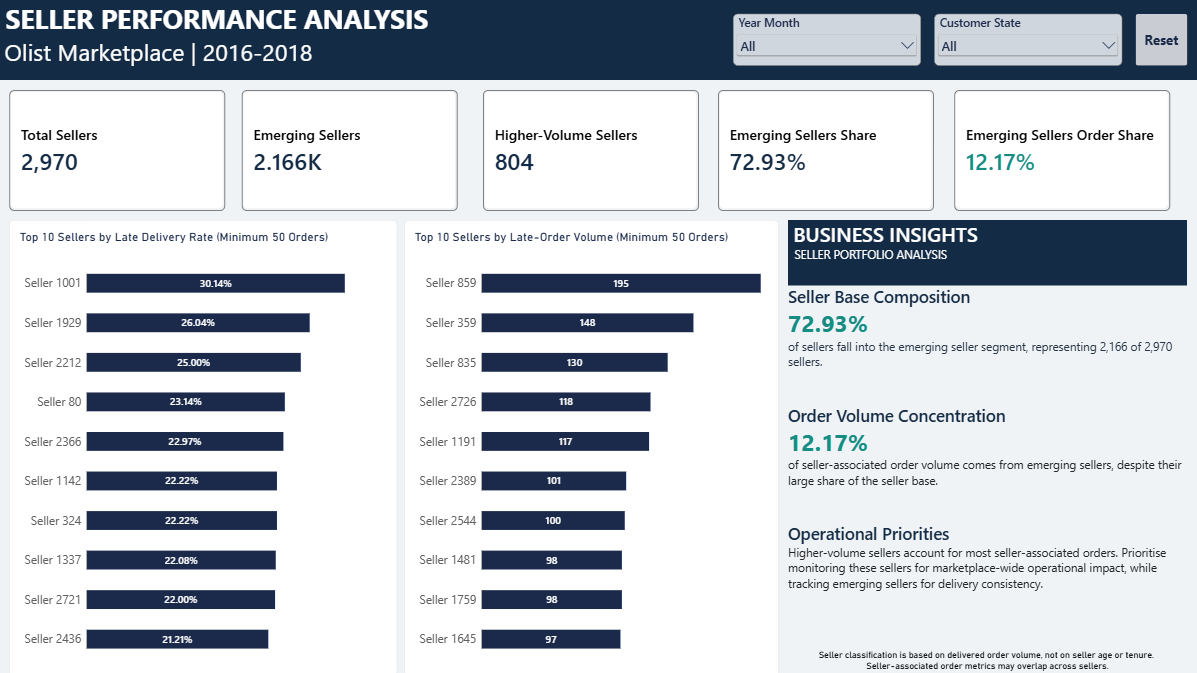

The page's visual inventory and layout, read from the dashboard file:
{"tool":"powerbi","page":{"name":"Seller Performance Analysis","canvas":[1920,1080],"ordinal":1},"visuals":[{"type":"cardVisual","fields":{"Data":["_measure.Emerging Sellers Share"]},"box":[1152.8,144.8,345.6,193.6],"z":0},{"type":"cardVisual","fields":{"Data":["Sum(seller_segment_summary.seller_count)"]},"box":[18.1,144.8,345.6,193.6],"z":1000},{"type":"cardVisual","fields":{"Data":["_measure.Emerging Sellers Order Share"]},"box":[1531,144.8,345.6,193.6],"z":2000},{"type":"textbox","box":[0,0,1920.4,127.6],"z":3000},{"type":"cardVisual","fields":{"Data":["_measure.Higher-Volume Sellers"]},"box":[776.3,144.8,345.6,193.6],"z":4000},{"type":"clusteredBarChart","title":"Top 10 Sellers by Late Delivery Rate (Minimum 50 Orders)","fields":{"Category":["seller_performance.Seller Label"],"Y":["Avg(seller_performance.Late Delivery Rate %)"]},"box":[18.1,351.1,620.7,729.3],"z":5000},{"type":"clusteredBarChart","title":"Top 10 Sellers by Late-Order Volume (Minimum 50 Orders)","fields":{"Category":["seller_performance.Seller Label"],"Y":["Sum(seller_performance.late_orders)"]},"box":[649.7,351.1,599,729.3],"z":6000},{"type":"cardVisual","fields":{"Data":["_measure.Emerging Sellers"]},"box":[390.9,144.8,345.6,193.6],"z":7000},{"type":"textbox","box":[1263.8,352,638.1,105],"z":8000},{"type":"textbox","box":[1263.8,456.9,638.1,623.7],"z":9000},{"type":"slicer","fields":{"Values":["order_performance.Year Month"]},"box":[1176.3,21.7,300.4,83.2],"z":10000},{"type":"slicer","fields":{"Values":["order_performance.customer_state"]},"box":[1498.4,21.7,300.4,83.2],"z":11000},{"type":"actionButton","box":[1820.5,21.7,83.2,83.2],"z":11001}]}

Visuals, with their boxes in screenshot pixels (x1, y1, x2, y2), scaled from the page's 1920x1080 canvas onto the 1197x673 screenshot:
cardVisual - _measure.Emerging Sellers Share: left=719, top=90, right=934, bottom=211
cardVisual - Sum(seller_segment_summary.seller_count): left=11, top=90, right=227, bottom=211
cardVisual - _measure.Emerging Sellers Order Share: left=954, top=90, right=1170, bottom=211
textbox: left=0, top=0, right=1196, bottom=80
cardVisual - _measure.Higher-Volume Sellers: left=484, top=90, right=699, bottom=211
"Top 10 Sellers by Late Delivery Rate (Minimum 50 Orders)" clusteredBarChart: left=11, top=219, right=398, bottom=672
"Top 10 Sellers by Late-Order Volume (Minimum 50 Orders)" clusteredBarChart: left=405, top=219, right=778, bottom=672
cardVisual - _measure.Emerging Sellers: left=244, top=90, right=459, bottom=211
textbox: left=788, top=219, right=1186, bottom=285
textbox: left=788, top=285, right=1186, bottom=672
slicer - order_performance.Year Month: left=733, top=14, right=921, bottom=65
slicer - order_performance.customer_state: left=934, top=14, right=1121, bottom=65
actionButton: left=1135, top=14, right=1187, bottom=65
